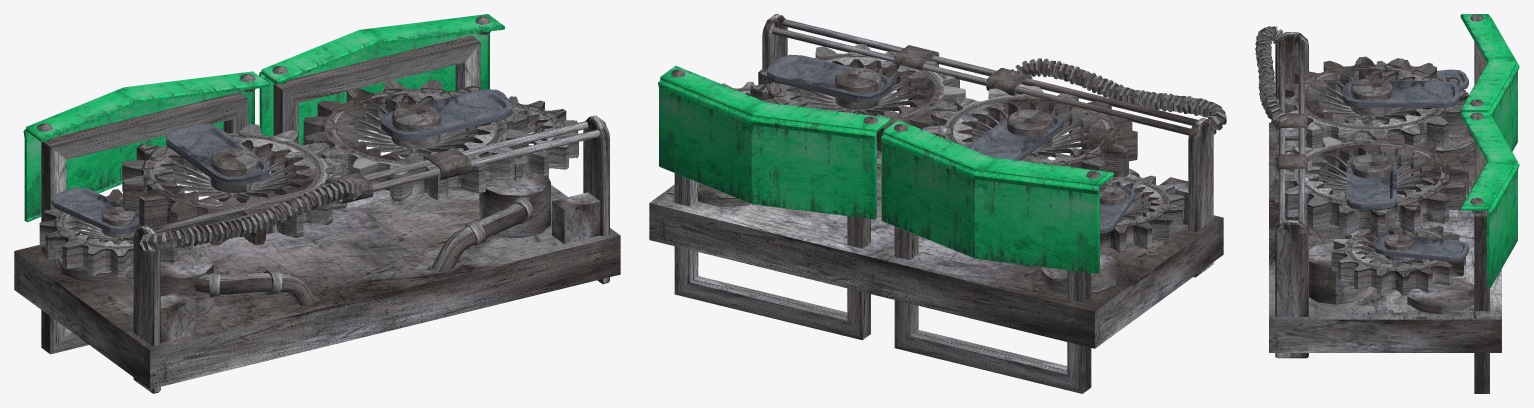
The model's file is static.glb.
3 renders of one model, left to right at view 1: azimuth 30°, elevation 25°; view 2: azimuth 150°, elevation 25°; view 3: azimuth 270°, elevation 25°, orthographic. The views are drawn at different scales.
Parts seen in each view (by area): view 1: Cube, Cube_65, Sweep_5, Extrude_remesh, Extrude_remesh_2, Extrude_remesh_3, Cube_43, Cylinder_1_3_2, Sweep_4, Cube_1, Extrude_6, Extrude (+16 smaller); view 2: Cube_65, Cube, Sweep_5, Extrude_remesh_2, Cube_43, Extrude_6, Extrude_remesh, Extrude_remesh_3, Extrude, Cylinder_1, Cylinder, Extrude_3 (+9 smaller); view 3: Cube, Cube_65, Extrude_remesh, Extrude_remesh_2, Cube_43, Extrude_remesh_3, Extrude_3, Sweep_5, Extrude_6, Cylinder_4, Extrude_5, Cylinder_1_3_2 (+11 smaller).
Part boxes in pixels (bbox=[...]): Cube: bbox=[14, 156, 620, 389]; Cube_65: bbox=[23, 14, 504, 222]; Sweep_5: bbox=[41, 35, 480, 354]; Extrude_remesh: bbox=[303, 79, 528, 201]; Extrude_remesh_2: bbox=[122, 124, 346, 245]; Extrude_remesh_3: bbox=[39, 96, 578, 277]; Cube_43: bbox=[133, 115, 609, 393]; Cylinder_1_3_2: bbox=[160, 172, 550, 317]; Sweep_4: bbox=[194, 197, 532, 305]; Cube_1: bbox=[160, 192, 600, 342]; Extrude_6: bbox=[153, 137, 315, 205]; Extrude: bbox=[379, 90, 512, 141]; Cube_65: bbox=[658, 65, 1113, 273]; Cube: bbox=[649, 150, 1223, 348]; Sweep_5: bbox=[674, 173, 1091, 393]; Extrude_remesh_2: bbox=[922, 86, 1137, 190]; Cube_43: bbox=[762, 14, 1213, 277]; Extrude_6: bbox=[953, 99, 1106, 163]; Extrude_remesh: bbox=[750, 44, 965, 152]; Extrude_remesh_3: bbox=[722, 81, 1183, 253]; Extrude: bbox=[767, 54, 892, 102]; Cylinder_1: bbox=[783, 19, 1210, 129]; Cylinder: bbox=[763, 26, 1201, 137]; Extrude_3: bbox=[781, 57, 934, 118]; Cube: bbox=[1269, 122, 1501, 352]; Cube_65: bbox=[1460, 14, 1519, 288]; Extrude_remesh: bbox=[1274, 132, 1468, 237]; Extrude_remesh_2: bbox=[1275, 56, 1468, 149]; Cube_43: bbox=[1275, 32, 1308, 358]; Extrude_remesh_3: bbox=[1331, 60, 1465, 295]; Extrude_3: bbox=[1305, 144, 1440, 200]; Sweep_5: bbox=[1474, 41, 1489, 393]; Extrude_6: bbox=[1305, 68, 1436, 127]; Cylinder_4: bbox=[1407, 125, 1474, 314]; Extrude_5: bbox=[1343, 81, 1459, 107]; Cylinder_1_3_2: bbox=[1306, 106, 1365, 304].
Size of the model in its own units: 4.41 by 1.87 by 2.27.
3 materials, 3 textured.
